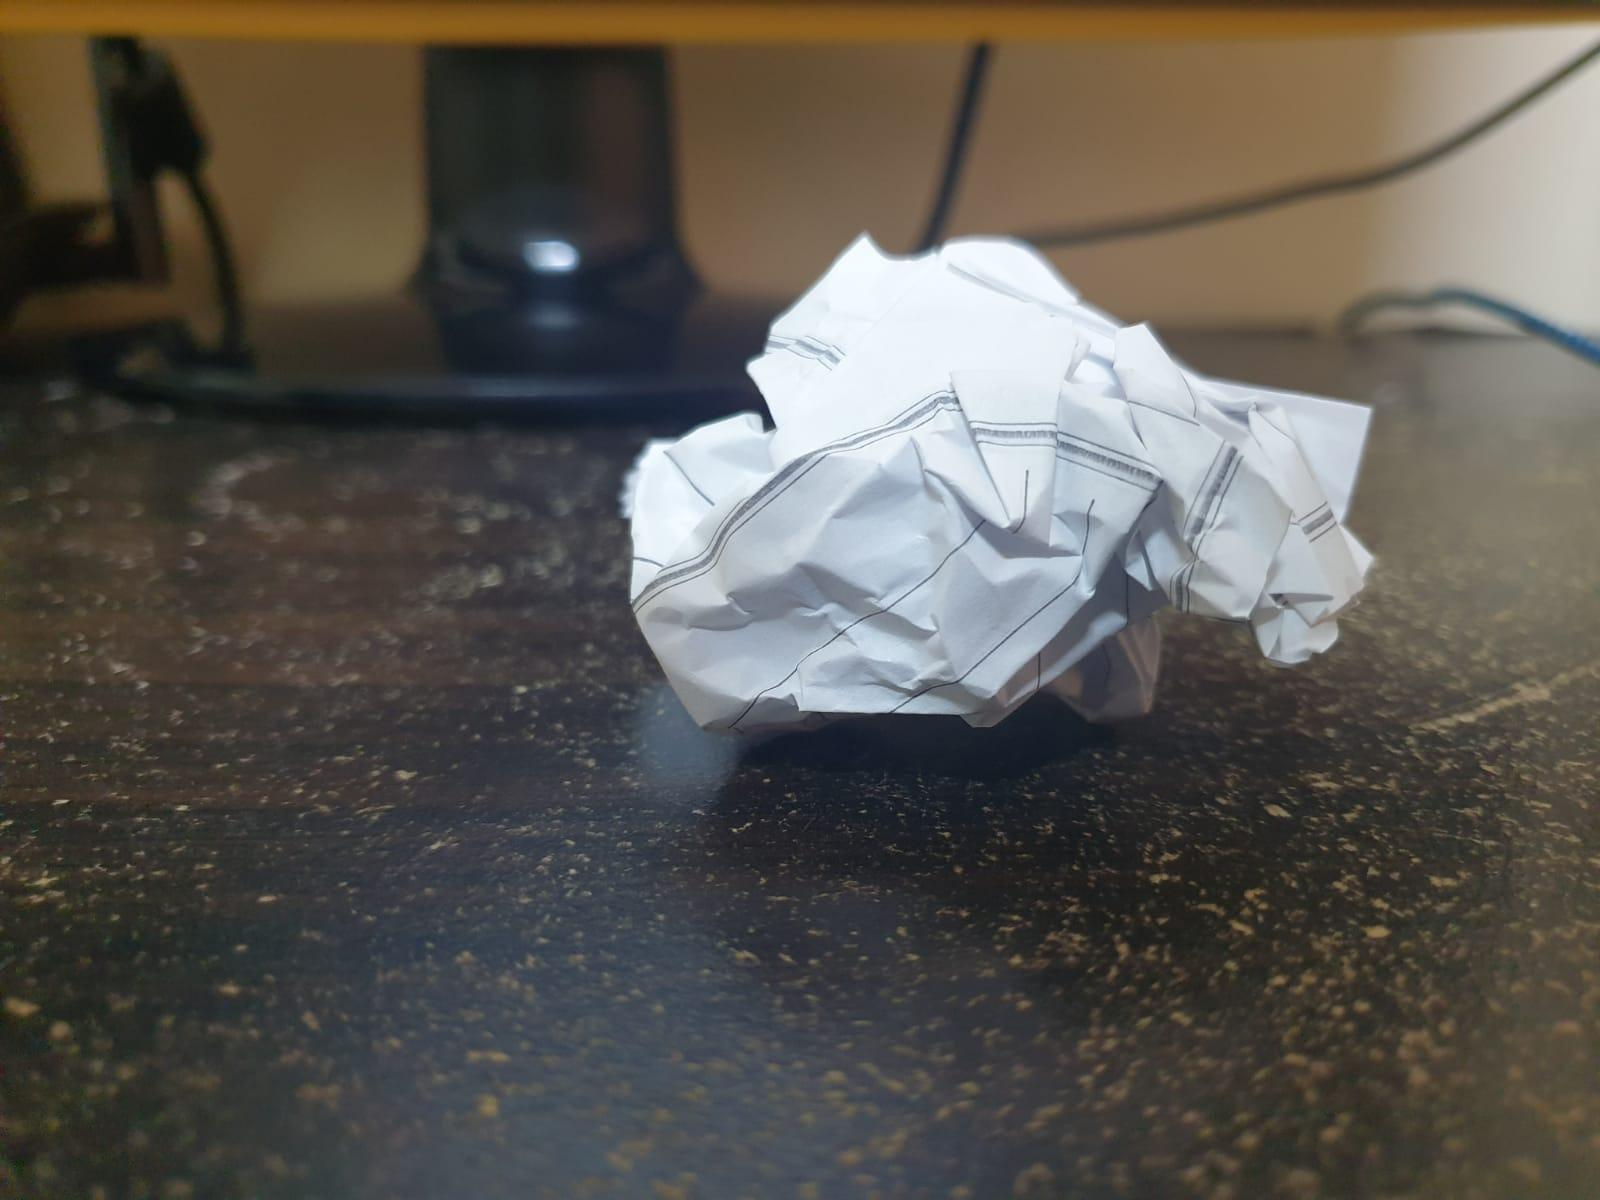Paper: (621, 231, 1381, 755)
